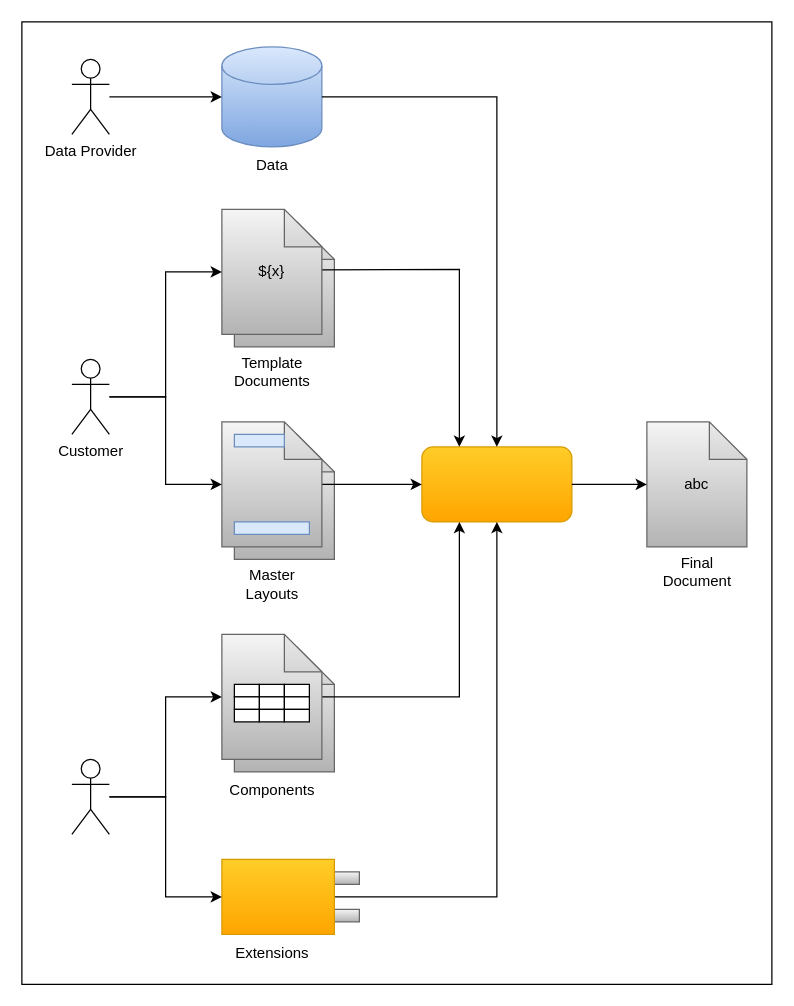
The diagram is 794 pixels wide and 1006 high, and some of its shapes have lost their labels. Here are the shapes that lost their labels. From the top down, the centre of each, then its label:
(271,96): x="abc"
(496,484): Underdocx Template Engine
(90,796): Software Developer
